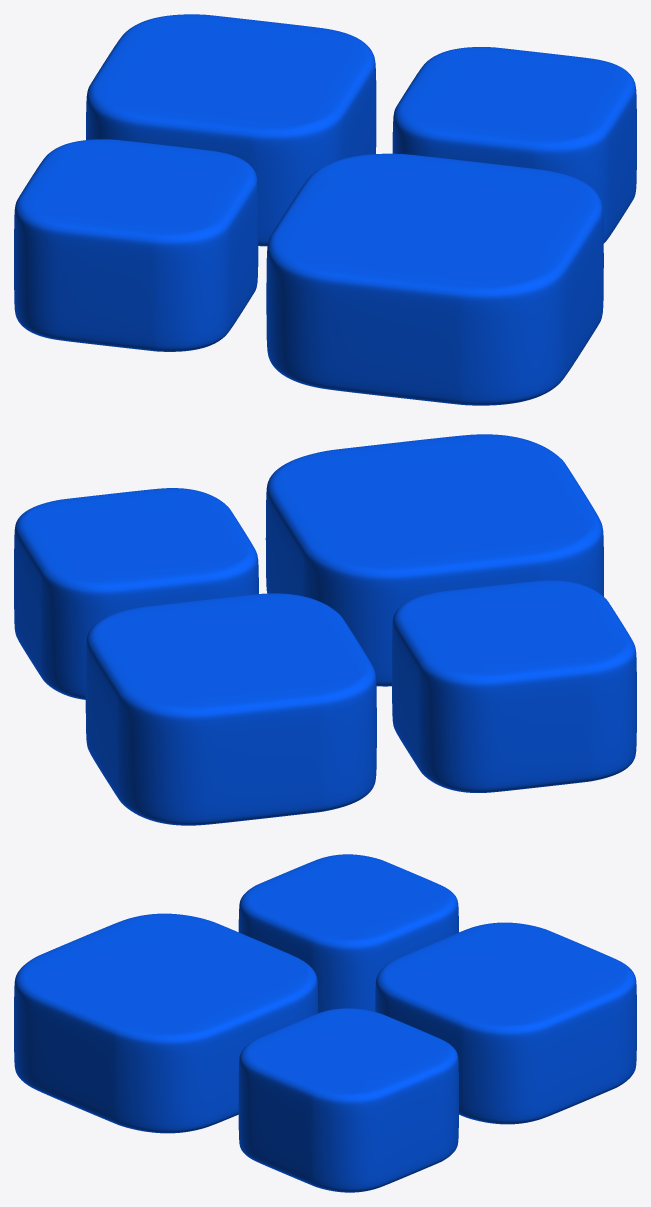
3 views of the same model, one above another, from view 1: azimuth 30°, elevation 25°; view 2: azimuth 150°, elevation 25°; view 3: azimuth 270°, elevation 25° (orthographic). The views are drawn at different scales.
Parts seen in each view (by area): view 1: Curve.002; view 2: Curve.002; view 3: Curve.002.
Part boxes in pixels (box(x1,y1,x2,y2)): Curve.002: box(14, 14, 636, 405); Curve.002: box(14, 434, 636, 825); Curve.002: box(14, 854, 636, 1192).
Bounding box in the file's own units: 4.84 × 0.899 × 5.16.
